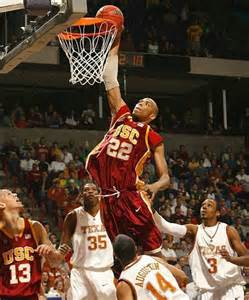basketball: (95, 3, 126, 35)
